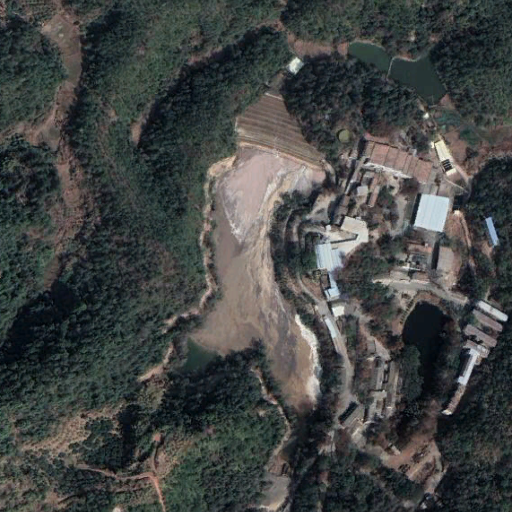tp: (170, 89, 324, 402)
